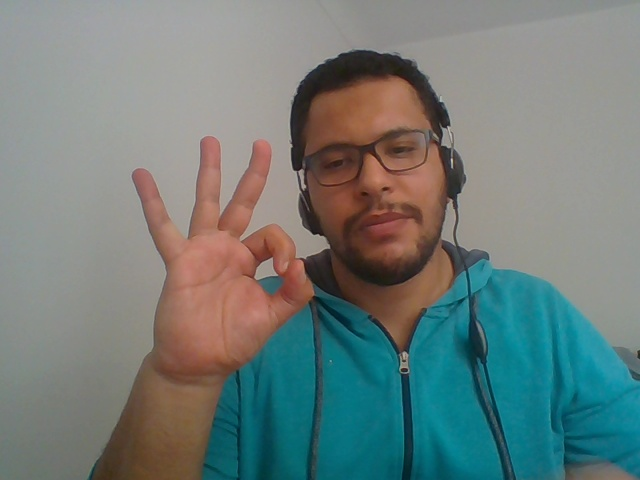okay: (111, 126, 318, 413)
